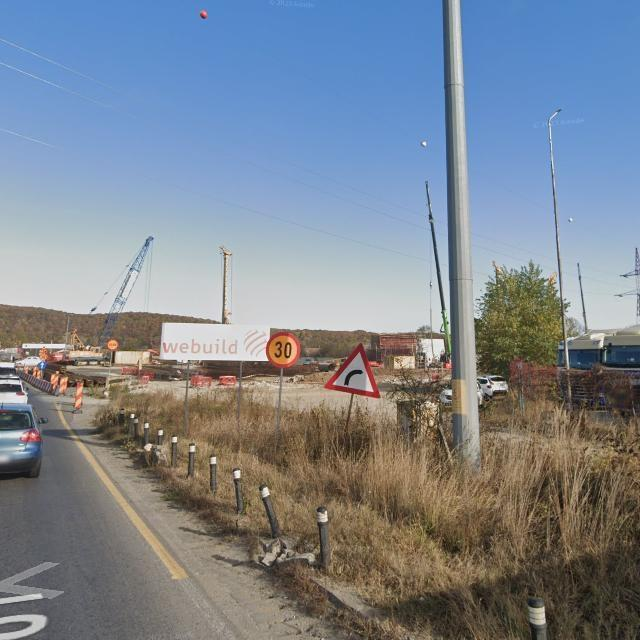forb_speed_over_30: (266, 332, 301, 369)
